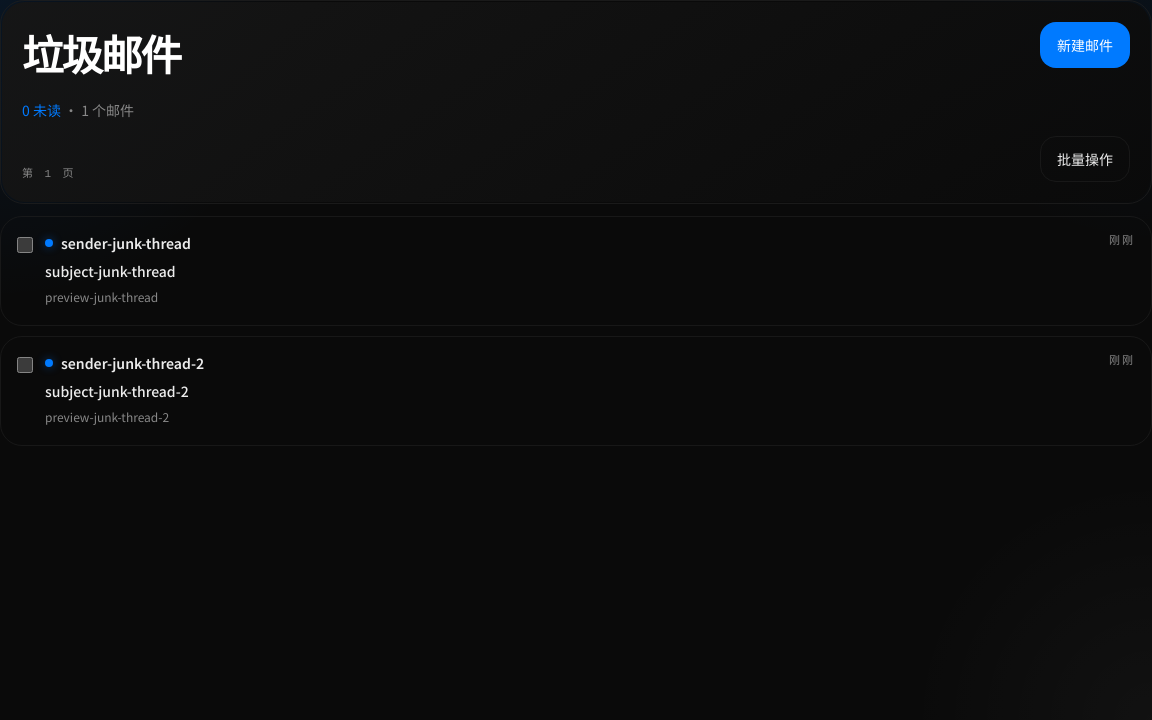
Test: mail-actions › removes row actions and keeps non-spam bulk actions in junk mailbox
Click the checkbox with test id "thread-select-junk-thread" at (25, 245), box [17, 237, 33, 253]
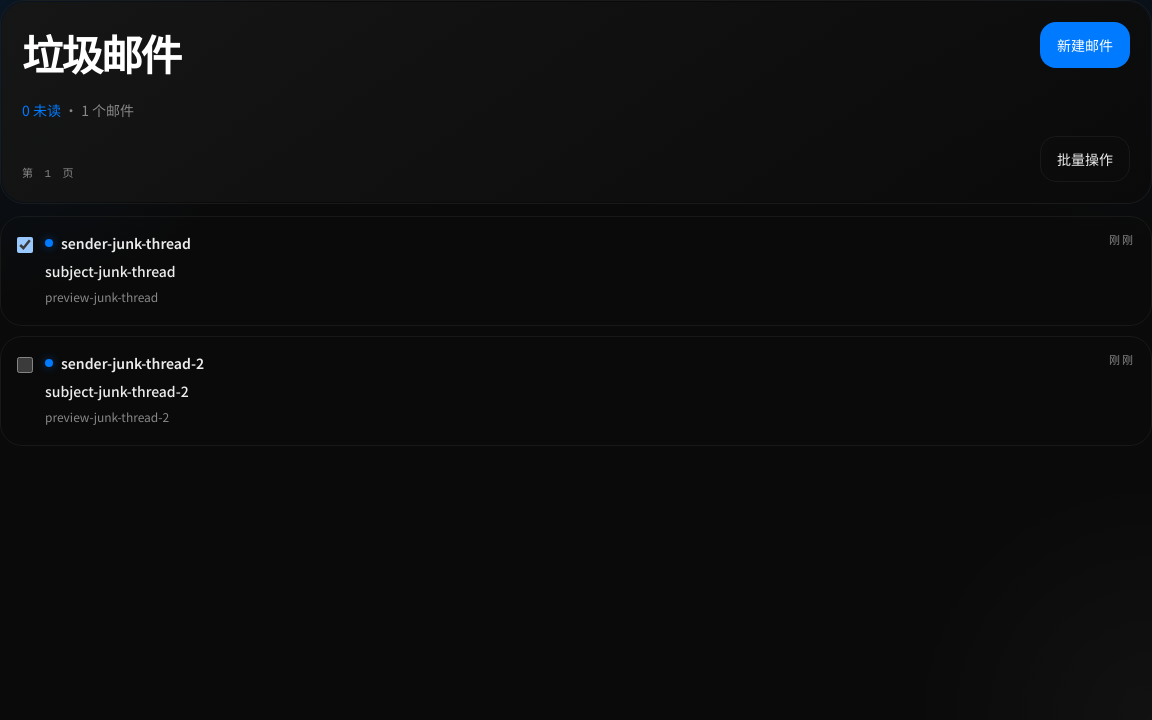
Click the checkbox with test id "thread-select-junk-thread-2" at (25, 365), box [17, 357, 33, 373]
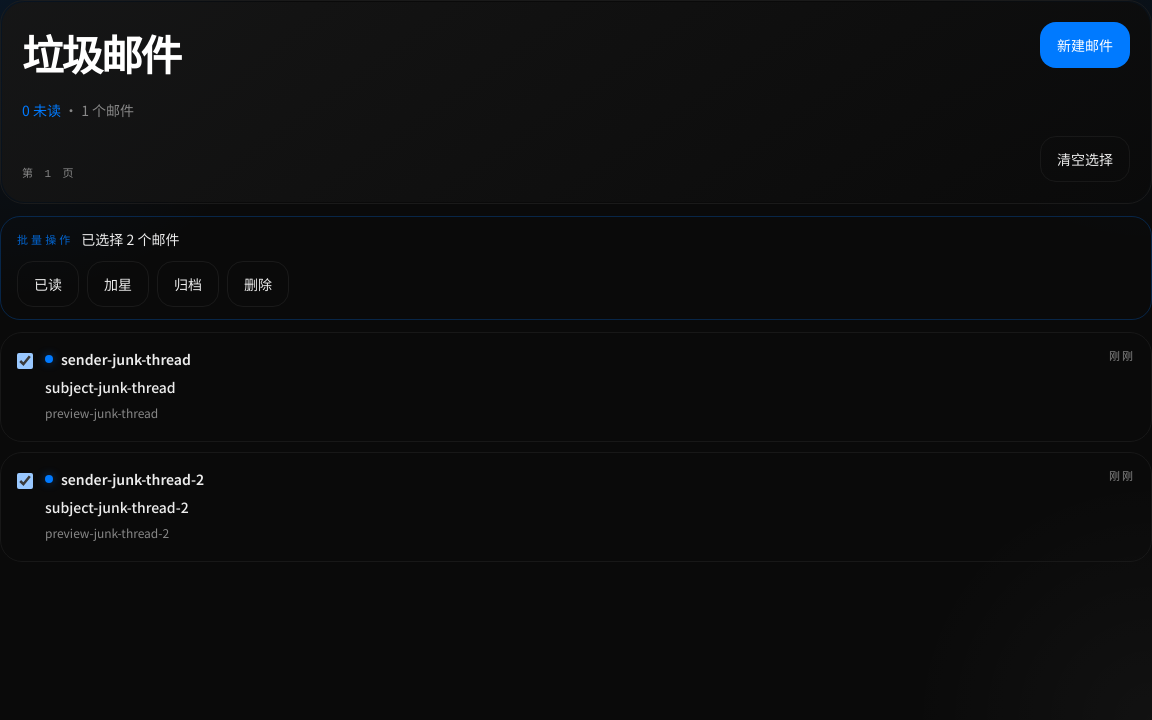
Expected: the button with test id "action-mark-read" is shown, [17, 261, 79, 307]
Expected: the button with test id "action-star" is shown, [87, 261, 149, 307]
Expected: the button with test id "action-move" is shown, [157, 261, 219, 307]
